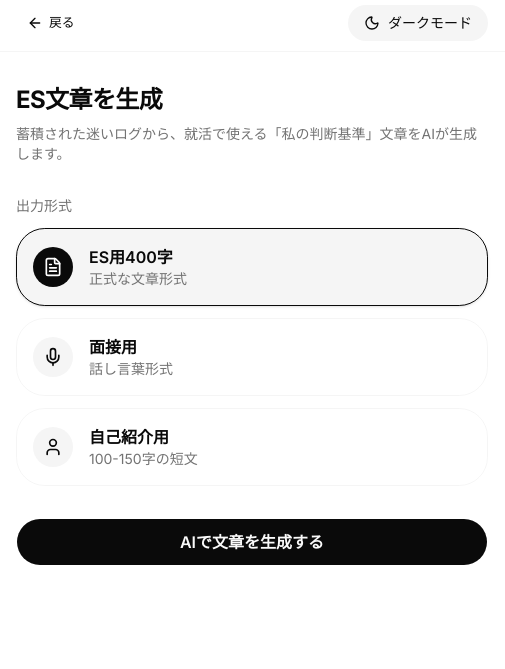
ES生成ページ › ネットワークエラー時にエラーメッセージを表示する
Click the button "AIで文章を生成する": (252, 542) left=16, top=518, right=488, bottom=566
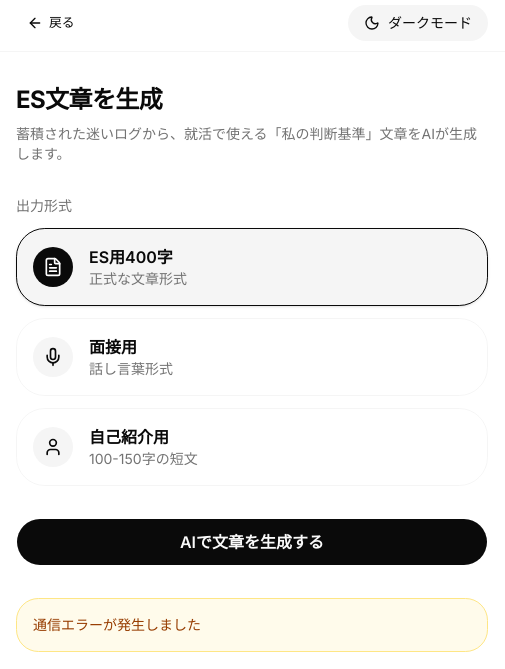
Now the text "通信エラーが発生しました" is shown, box left=16, top=598, right=488, bottom=652
